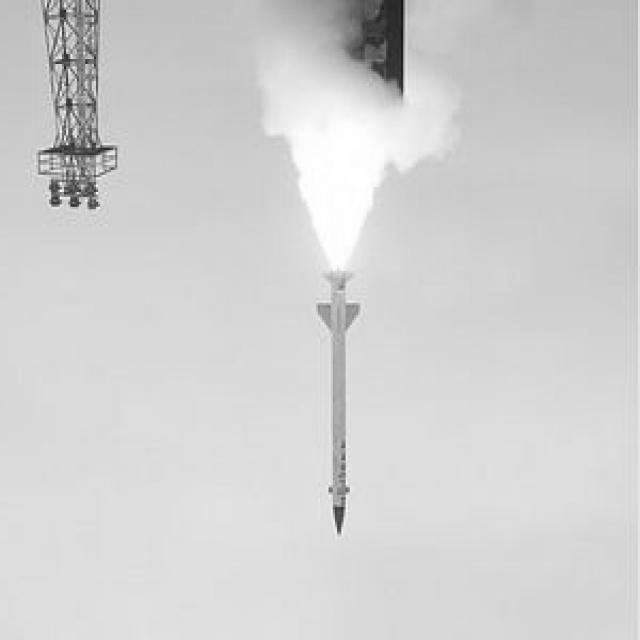Missile: (315, 267, 361, 545)
